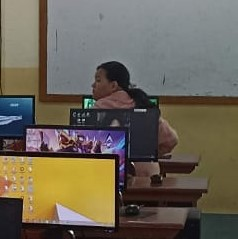monitor: (0, 152, 120, 230), (24, 125, 129, 194), (69, 107, 160, 162), (0, 95, 36, 151), (0, 197, 24, 239), (82, 95, 96, 109)
